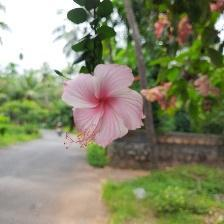hibiscus: (60, 63, 149, 156)
